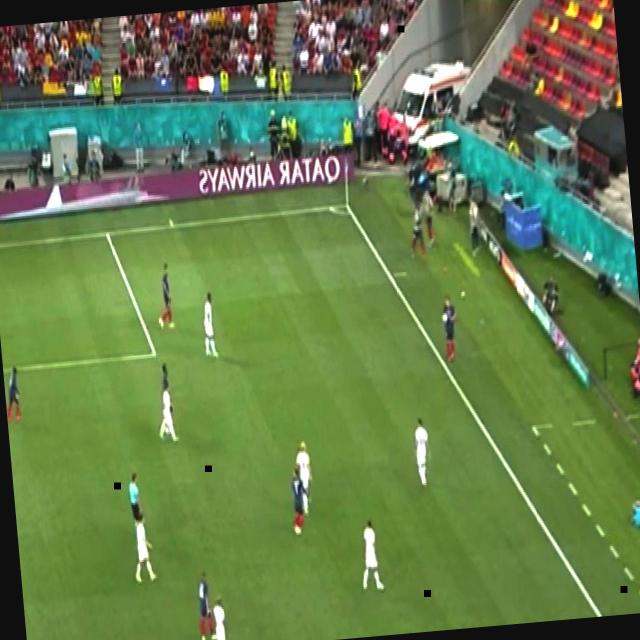ball: (441, 311, 449, 325), (459, 288, 467, 300)
player-white: (130, 512, 158, 585), (357, 518, 385, 590), (292, 439, 316, 516), (290, 466, 314, 536), (195, 570, 218, 640), (155, 381, 180, 445), (411, 417, 433, 488), (440, 292, 462, 362), (154, 262, 176, 332), (200, 292, 220, 360), (126, 472, 146, 534), (3, 366, 24, 422), (209, 593, 233, 640), (159, 363, 174, 423)
